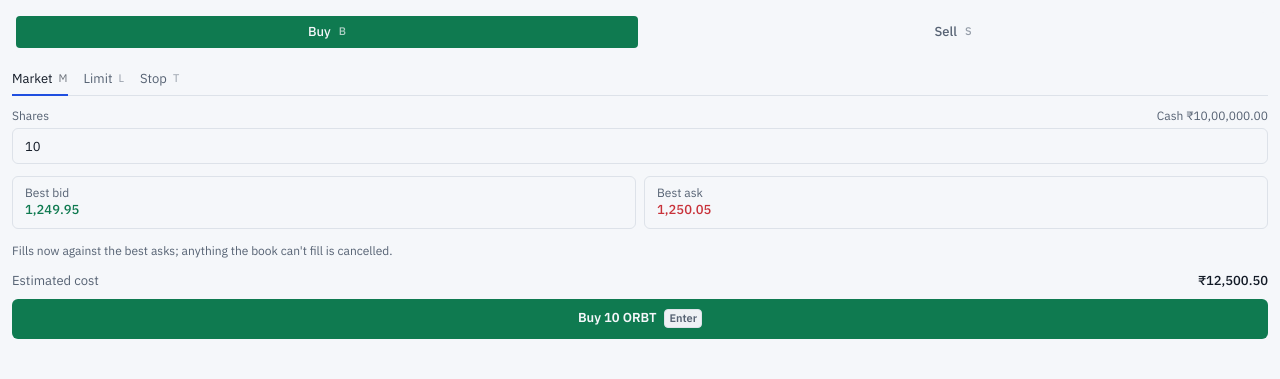
OrderTicket › when the outcome is unknown › settles after a placed order and after an engine rejection: each next order is new
The image size is (1280, 379).
Later steps or results of the test are not shown.
Step 1. Click the button "Buy 10 ORBT Enter" → (640, 319), box [12,299,1268,339]
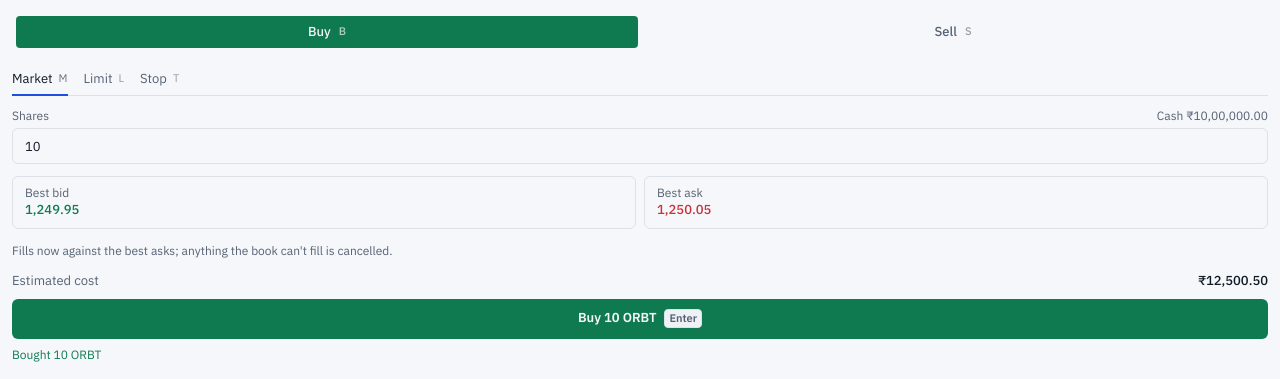
Now the text "Bought 10 ORBT" is shown, box [12,347,101,362]
Step 2. Click the button "Buy 10 ORBT Enter" → (640, 319), box [12,299,1268,339]
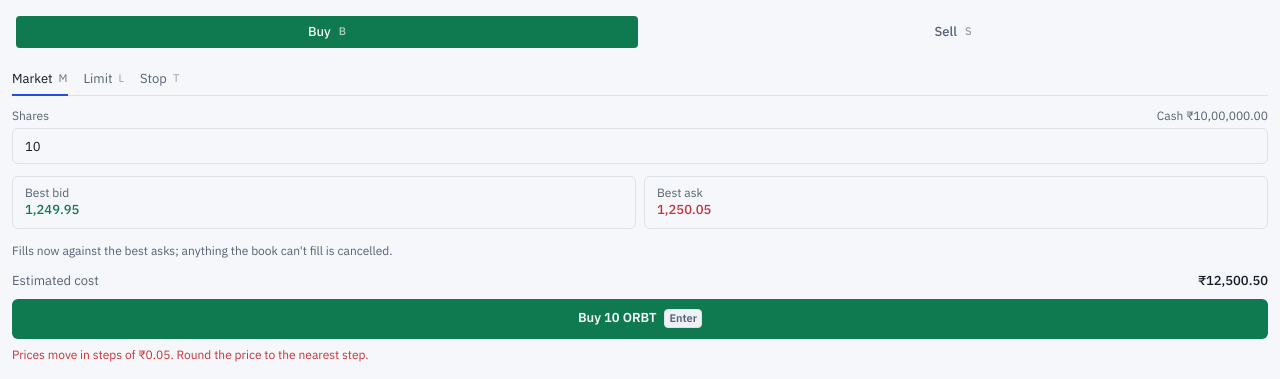
Now the text "Prices move in steps of ₹0.05. Round the price to the nearest step." is shown, box [12,347,368,362]
